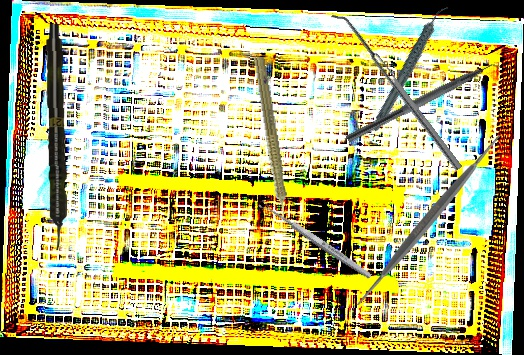Chopper: (345, 53, 510, 154)
Handpiece: (349, 3, 472, 134), (247, 55, 294, 229), (44, 23, 68, 251)
Spatula Surgical: (343, 135, 516, 305), (330, 7, 463, 176)
Surgical Spoon: (257, 198, 374, 281)
